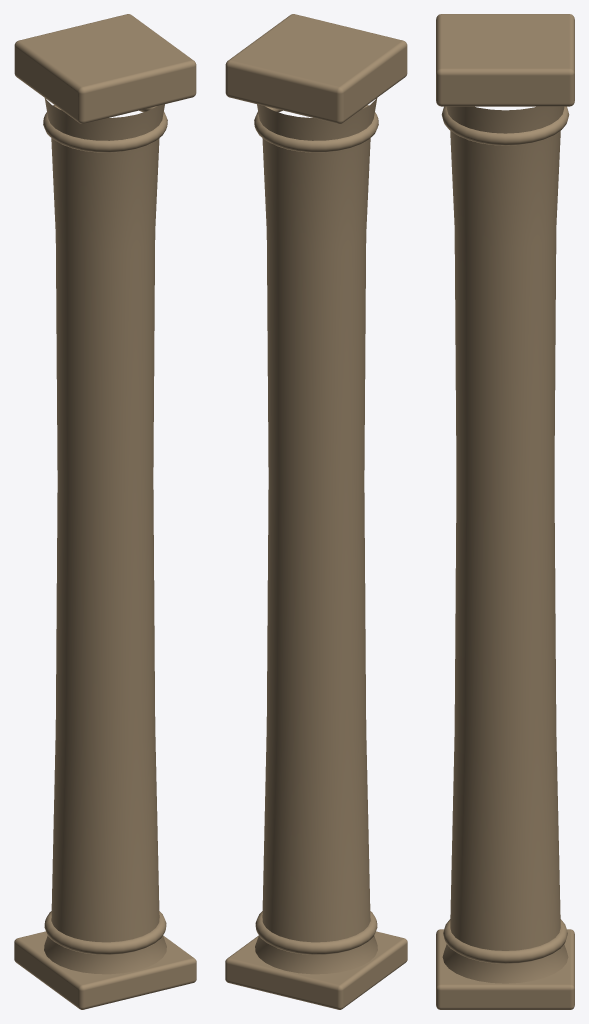
Rendered from column.glb.
3 renders of one model, left to right at view 1: azimuth 30°, elevation 25°; view 2: azimuth 150°, elevation 25°; view 3: azimuth 270°, elevation 25°, orthographic.
Visible parts, largest first — view 1: Shaft, Capital, Base, object 3, object 4; view 2: Shaft, Capital, Base, object 3, object 4; view 3: Shaft, Capital, Base, object 3, object 4.
Part boxes in pixels (left/top/right/bottom): Shaft: left=44, top=98, right=166, bottom=974; Capital: left=14, top=14, right=196, bottom=123; Base: left=14, top=931, right=196, bottom=1009; object 3: left=44, top=911, right=166, bottom=954; object 4: left=43, top=105, right=167, bottom=152; Shaft: left=255, top=98, right=377, bottom=974; Capital: left=225, top=14, right=407, bottom=123; Base: left=225, top=931, right=407, bottom=1009; object 3: left=255, top=911, right=377, bottom=954; object 4: left=254, top=105, right=378, bottom=152; Shaft: left=442, top=106, right=568, bottom=983; Capital: left=436, top=14, right=574, bottom=106; Base: left=436, top=929, right=574, bottom=1009; object 3: left=443, top=919, right=567, bottom=963; object 4: left=441, top=106, right=569, bottom=145.
Size of the model in its own units: 1.5 by 11.22 by 1.5.
